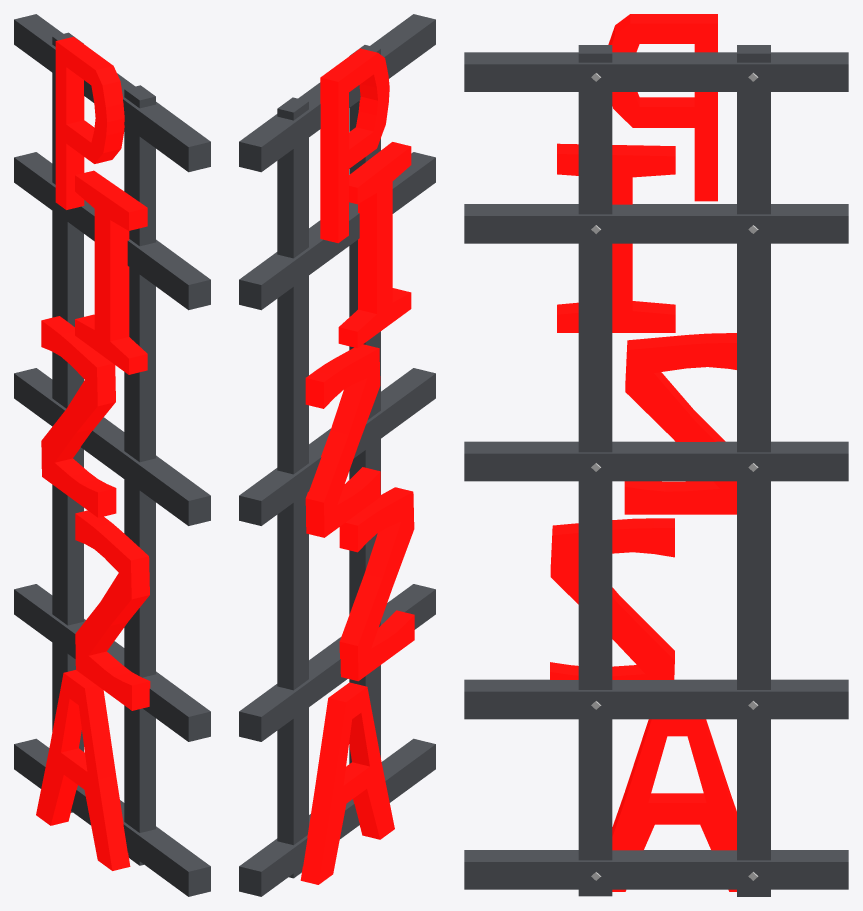
File: SM_Hoarding_04_B.fbx
The picture shows the model from 3 angles, left to right: view 1: azimuth 30°, elevation 25°; view 2: azimuth 150°, elevation 25°; view 3: azimuth 270°, elevation 25°; orthographic projection. The views are drawn at different scales.
Parts seen in each view (by area): view 1: SM_Hoarding_04_B_LOD0; view 2: SM_Hoarding_04_B_LOD0; view 3: SM_Hoarding_04_B_LOD0.
Boxes of the visible parts, left/top/right/bottom form: SM_Hoarding_04_B_LOD0: left=14, top=14, right=210, bottom=896; SM_Hoarding_04_B_LOD0: left=239, top=14, right=435, bottom=896; SM_Hoarding_04_B_LOD0: left=464, top=14, right=848, bottom=896.
Size of the model in its own units: 41.85 by 308 by 767.
Materials: 1 (1 with a texture image).
